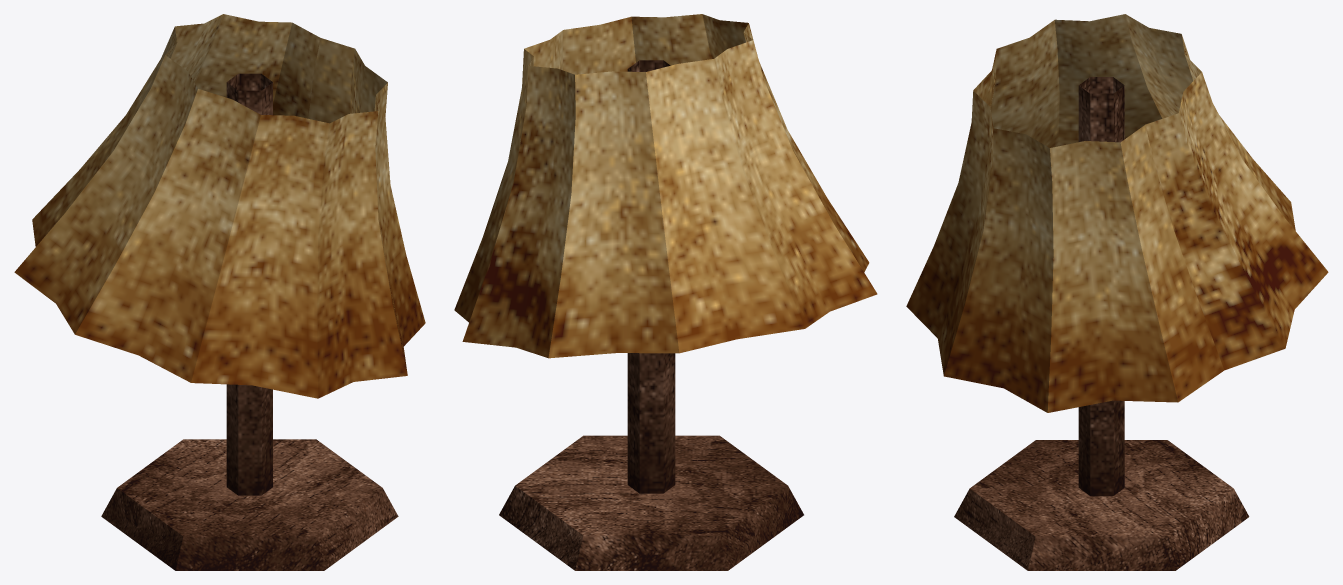
File: Lampara.fbx
3 views of the same model, side by side, from view 1: azimuth 30°, elevation 25°; view 2: azimuth 150°, elevation 25°; view 3: azimuth 270°, elevation 25° (orthographic). The views are drawn at different scales.
Parts seen in each view (by area): view 1: Lampara; view 2: Lampara; view 3: Lampara.
Part boxes in pixels (bbox=[...]): Lampara: bbox=[14, 14, 425, 570]; Lampara: bbox=[454, 14, 877, 570]; Lampara: bbox=[906, 14, 1328, 570].
Size of the model in its own units: 0.4186 by 0.5361 by 0.4389.
